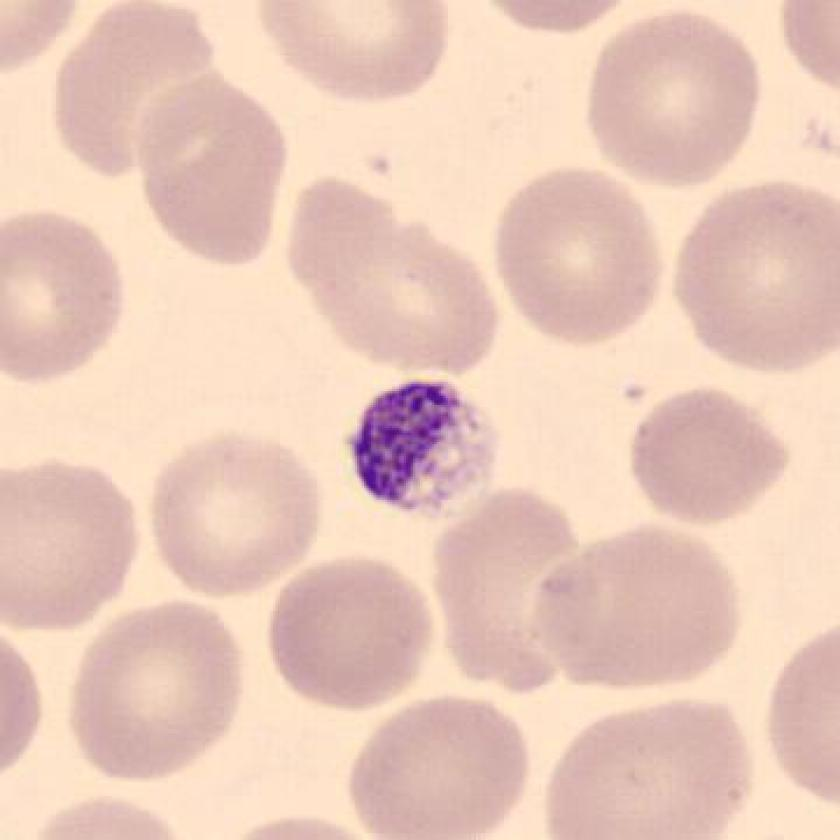platelets: (344, 379, 500, 520)
